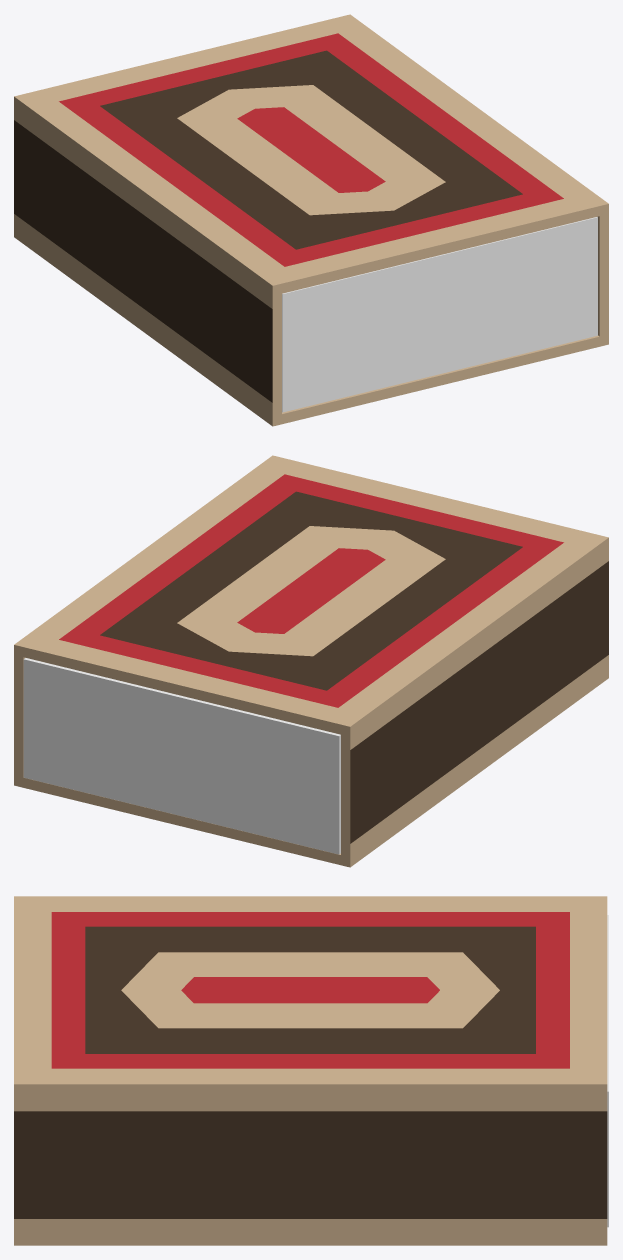
File: survival-matches-box.glb
3 renders of one model, top to bottom at view 1: azimuth 30°, elevation 25°; view 2: azimuth 150°, elevation 25°; view 3: azimuth 270°, elevation 25°, orthographic. The views are drawn at different scales.
Parts seen in each view (by area): view 1: matches-box-cover, matches; view 2: matches-box-cover, matches; view 3: matches-box-cover, matches.
Part boxes in pixels (<box>): matches-box-cover: <box>14,14,608,426</box>; matches: <box>282,217,597,412</box>; matches-box-cover: <box>14,455,608,867</box>; matches: <box>23,658,340,854</box>; matches-box-cover: <box>14,896,607,1245</box>; matches: <box>607,915,608,1227</box>.
Bounding box in the file's own units: 0.075 × 0.03 × 0.1003.
